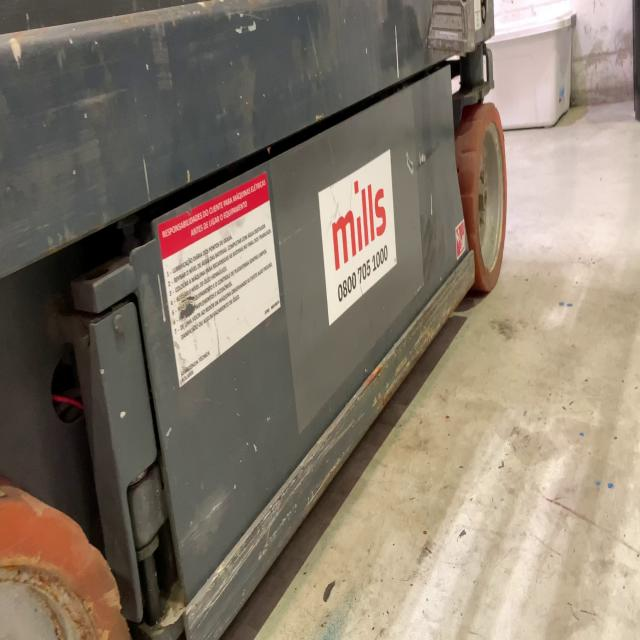Adesivos: (316, 146, 401, 332)
